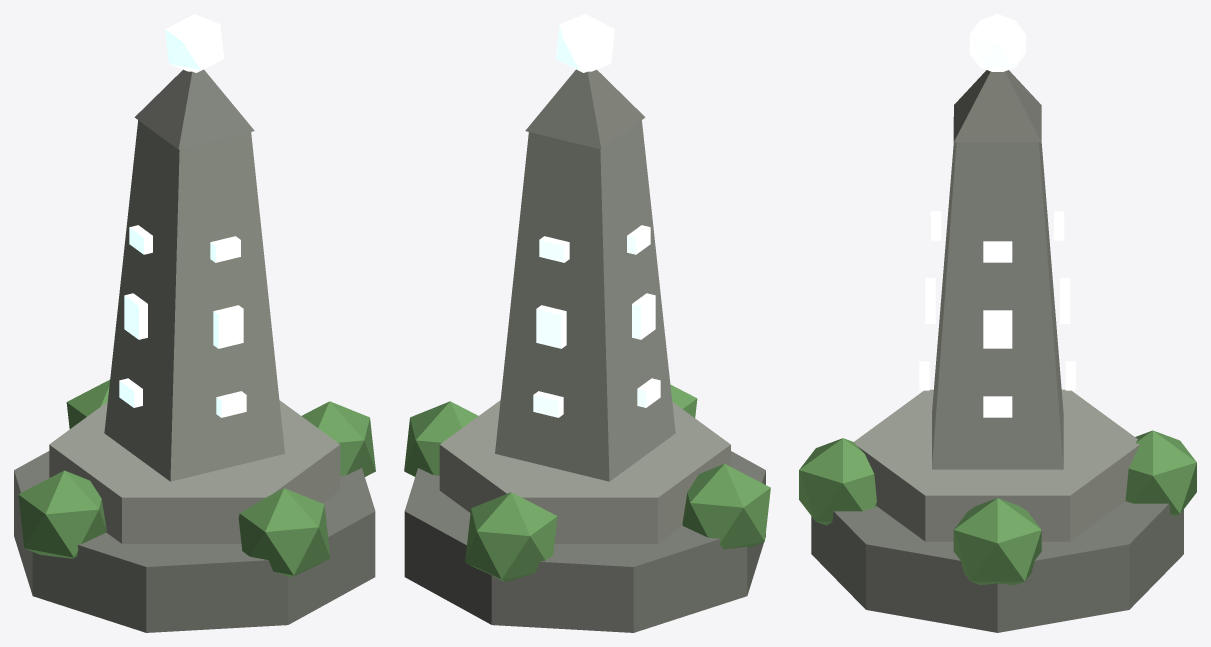
The model's file is waystone_oak.glb.
3 views of the same model, side by side, from view 1: azimuth 30°, elevation 25°; view 2: azimuth 150°, elevation 25°; view 3: azimuth 270°, elevation 25° (orthographic).
Visible parts, largest first — view 1: waystone_oak; view 2: waystone_oak; view 3: waystone_oak.
Boxes of the visible parts, <box> form: waystone_oak: <box>14,14,375,632</box>; waystone_oak: <box>404,14,770,632</box>; waystone_oak: <box>799,14,1196,632</box>.
Size of the model in its own units: 1.95 by 2.88 by 1.92.
